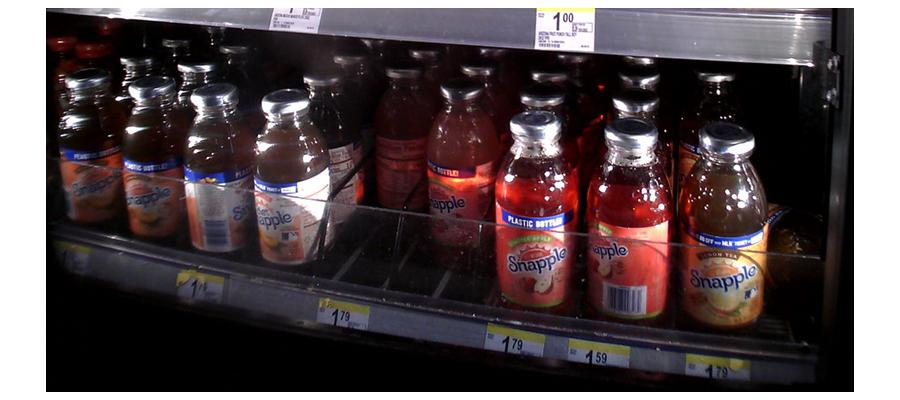bottle: (588, 114, 671, 327), (681, 122, 765, 331), (497, 108, 574, 314), (254, 90, 327, 272), (184, 77, 251, 263), (430, 84, 492, 275), (122, 72, 183, 244), (60, 71, 122, 230), (377, 67, 426, 206)
